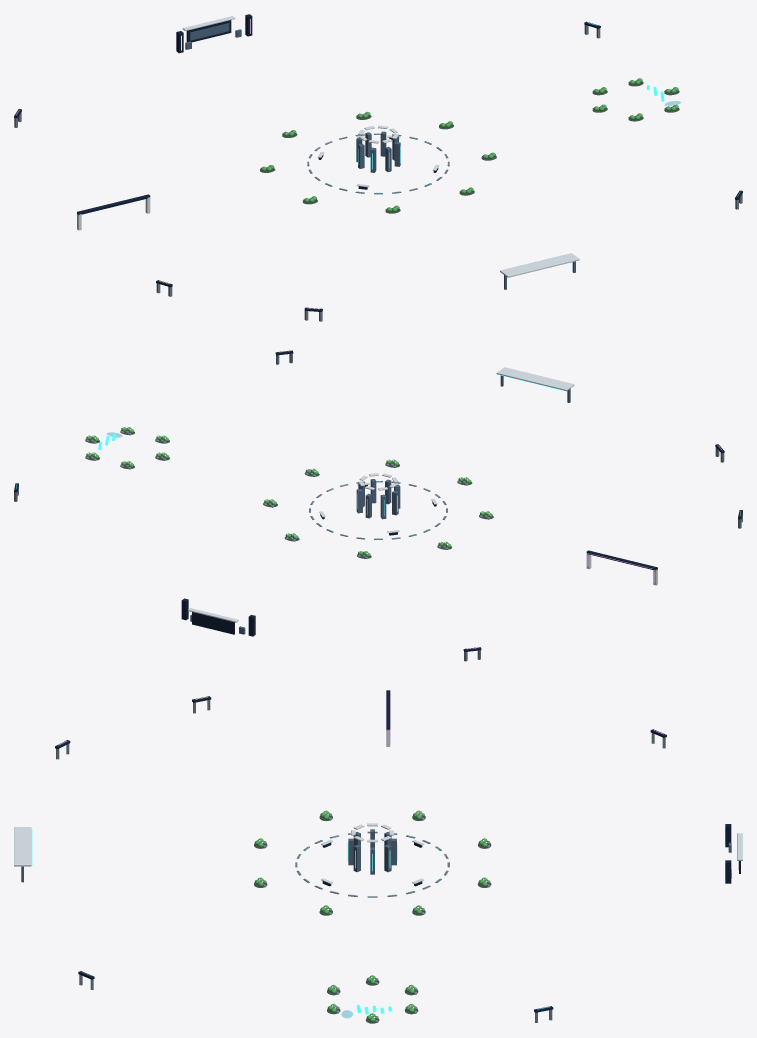
File: WORLD_Overlay.glb
3 views of the same model, one above another, from view 1: azimuth 30°, elevation 25°; view 2: azimuth 150°, elevation 25°; view 3: azimuth 270°, elevation 25° (orthographic). The views are drawn at different scales.
Visible parts, largest first — view 1: Shop_Canopy; view 2: Shop_Canopy, Event_Backdrop; view 3: Shop_Canopy.
Part boxes in pixels (box(x1,y1,x2,y2)): Shop_Canopy: box(500, 253, 579, 277); Shop_Canopy: box(496, 367, 574, 391); Event_Backdrop: box(192, 612, 234, 634); Shop_Canopy: box(14, 827, 31, 866).
Size of the model in its own units: 383 by 19.12 by 373.
